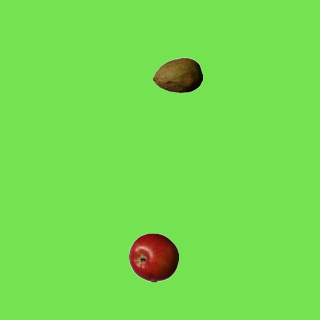Apple Braeburn: (128, 232, 178, 282)
Papaya: (152, 50, 202, 100)
